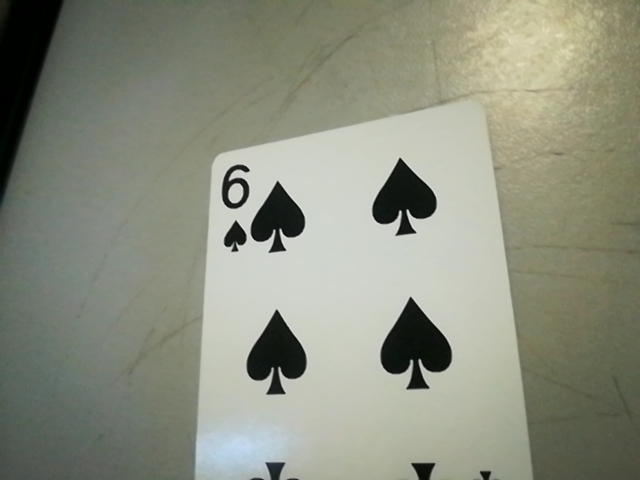ht 6: (207, 158, 259, 259)
